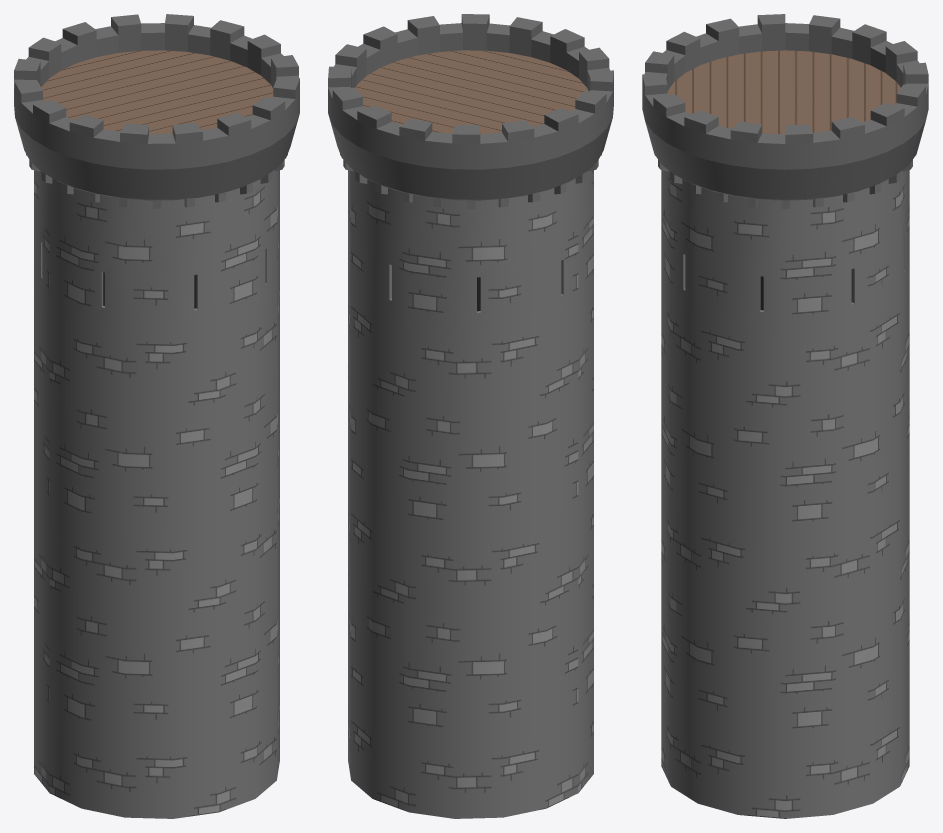
File: Tower_02.fbx
3 renders of one model, left to right at view 1: azimuth 30°, elevation 25°; view 2: azimuth 150°, elevation 25°; view 3: azimuth 270°, elevation 25°, orthographic.
Parts seen in each view (by area): view 1: group162_pCube974; view 2: group162_pCube974; view 3: group162_pCube974.
Part boxes in pixels (left/top/right/bottom): group162_pCube974: left=14, top=14, right=299, bottom=818; group162_pCube974: left=328, top=14, right=613, bottom=818; group162_pCube974: left=642, top=14, right=928, bottom=818.
Size of the model in its own units: 8.93 by 23.82 by 8.93.
